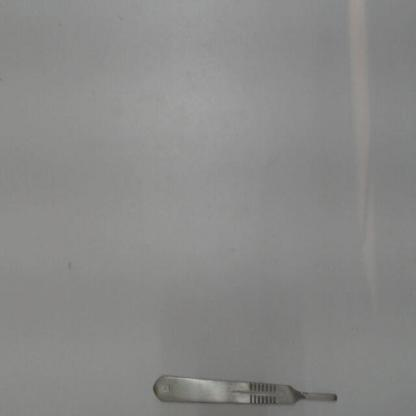No.4 BP Handle: (147, 366, 342, 409)
